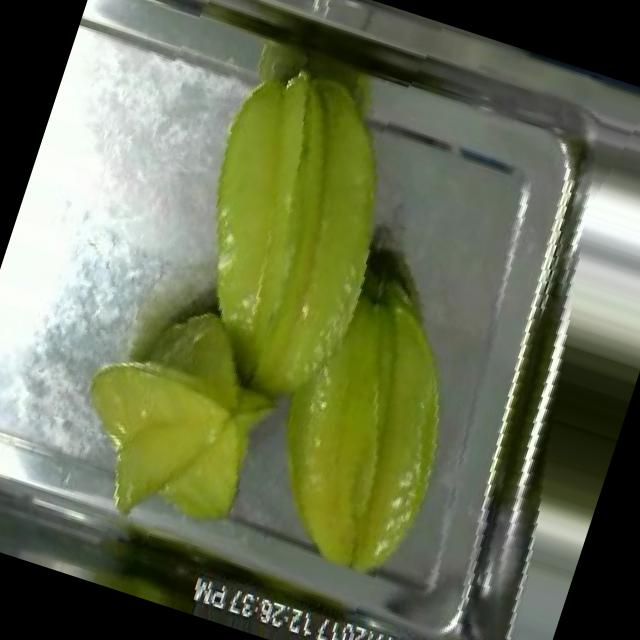fruit: (142, 33, 445, 428), (224, 233, 512, 607), (34, 260, 314, 566)
